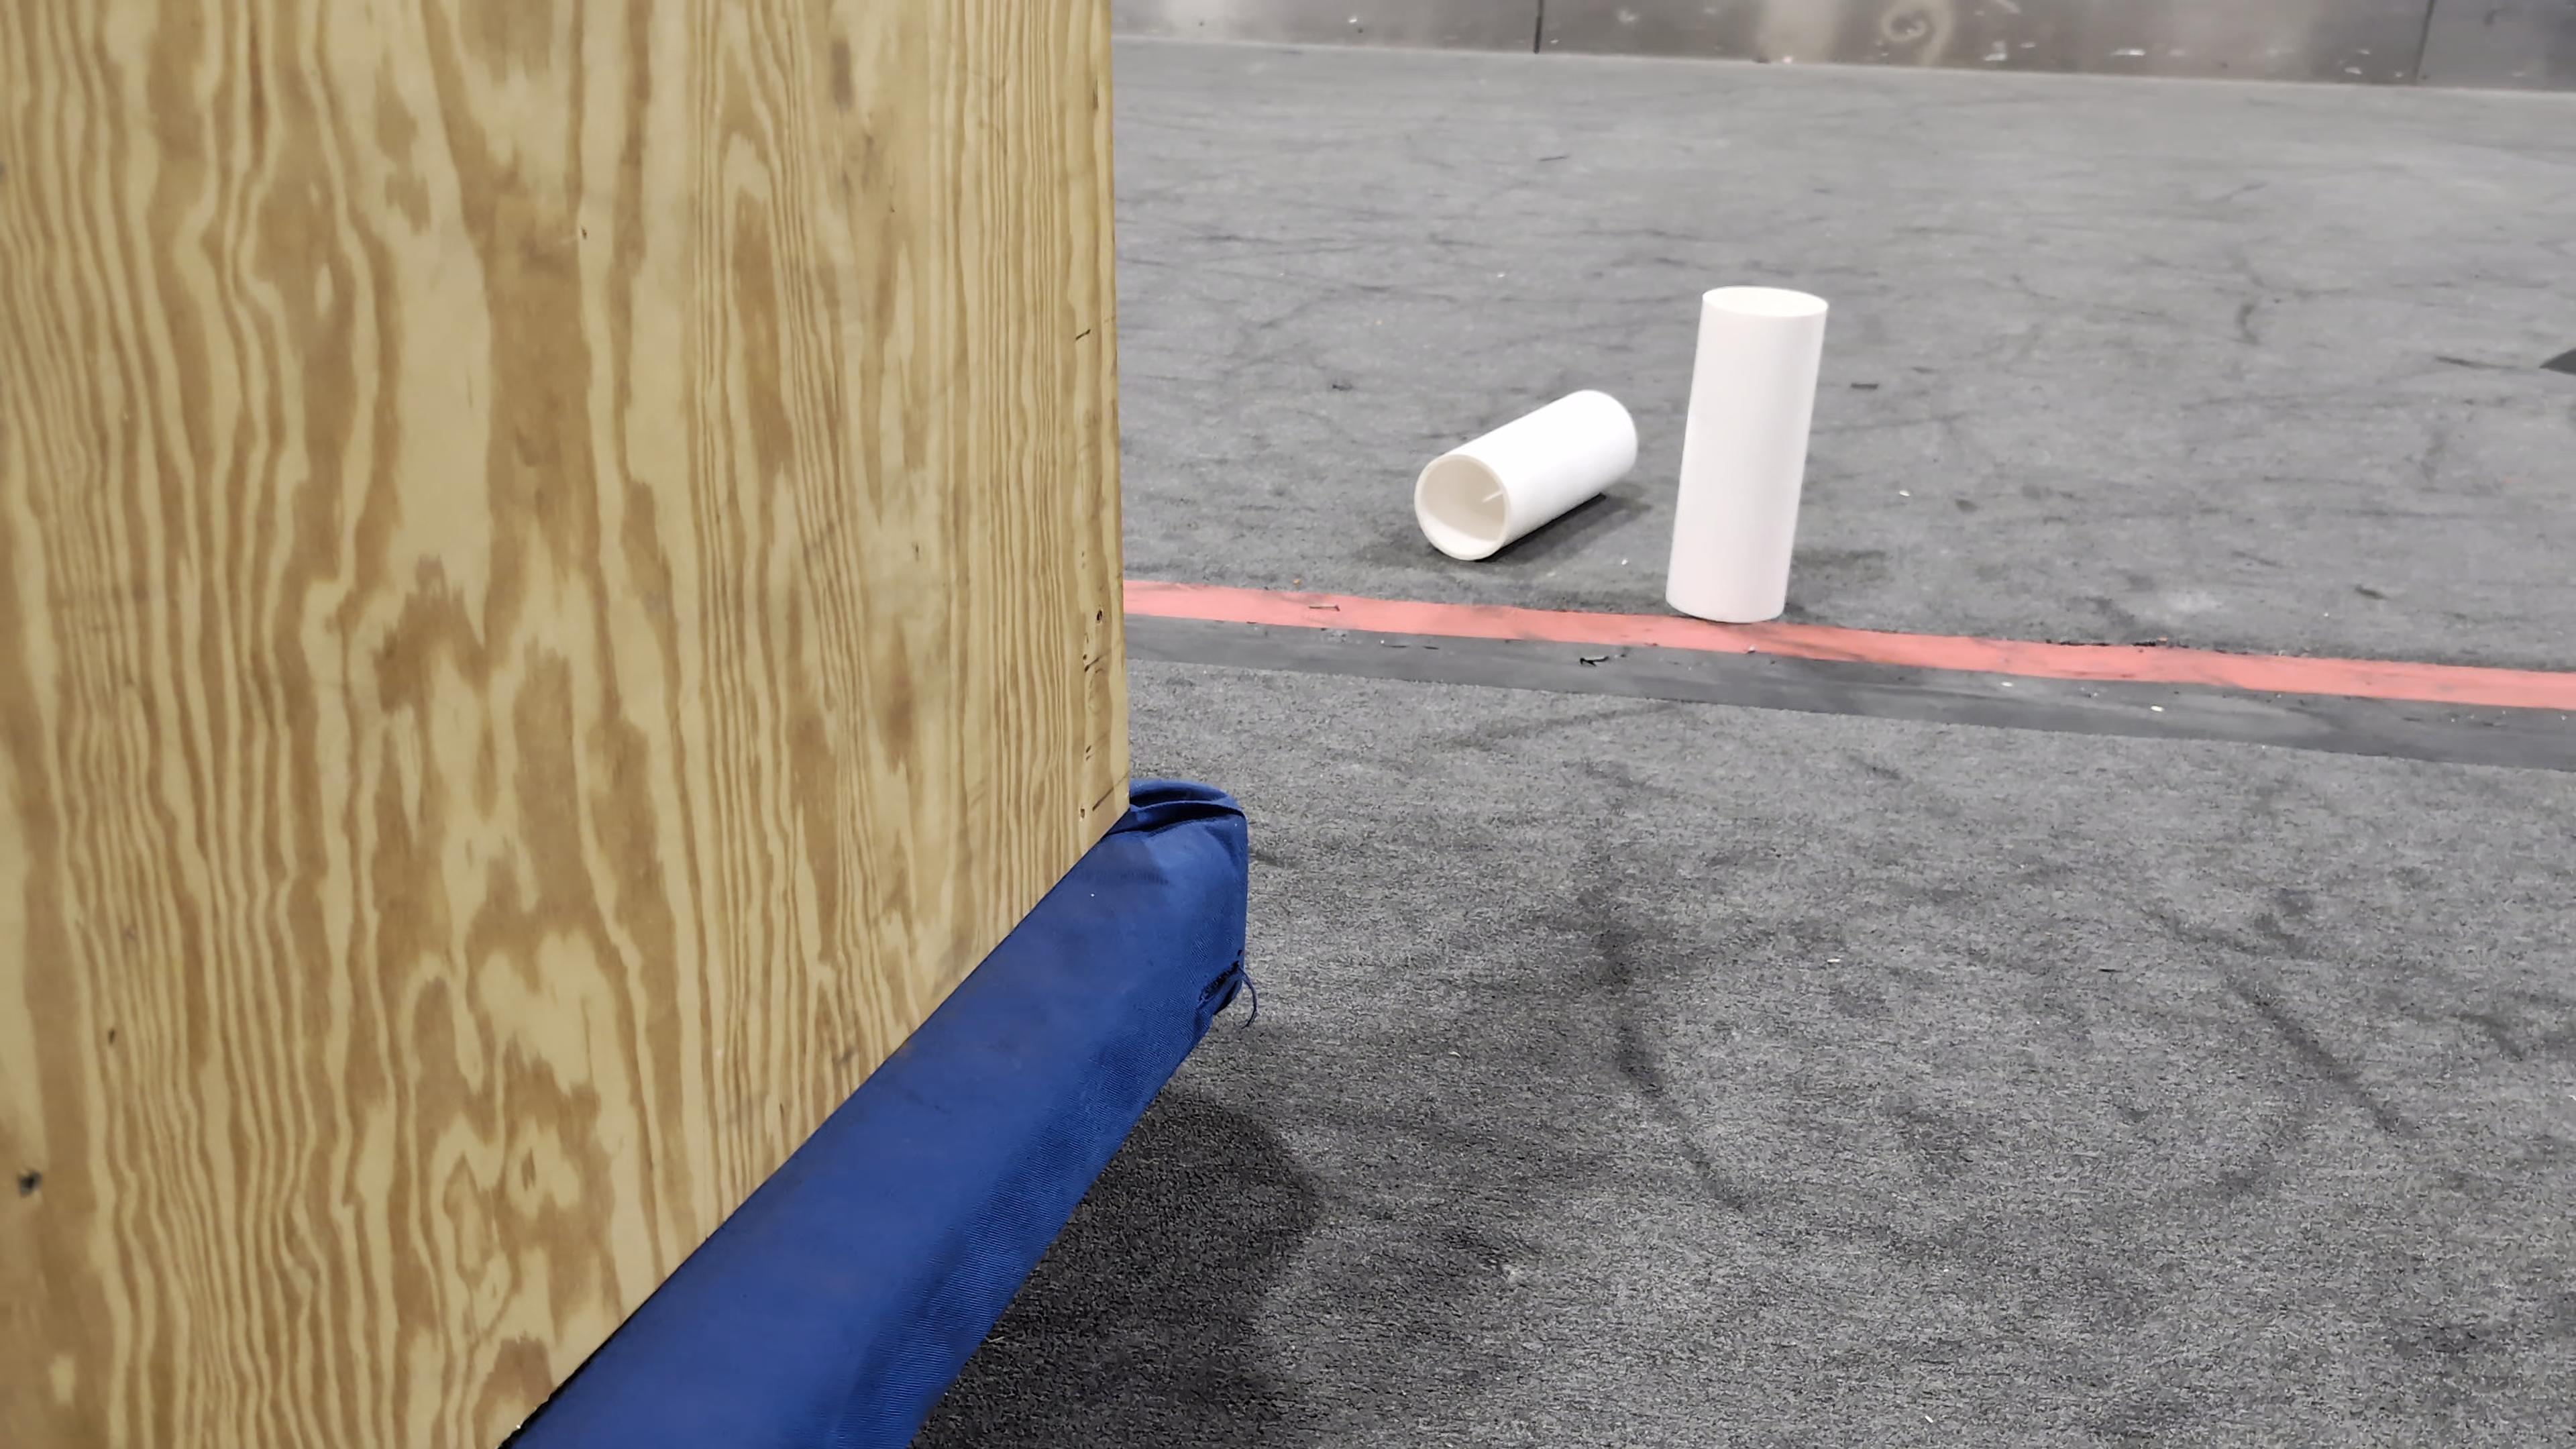coral: (1667, 287, 1829, 625), (1415, 389, 1638, 559)
